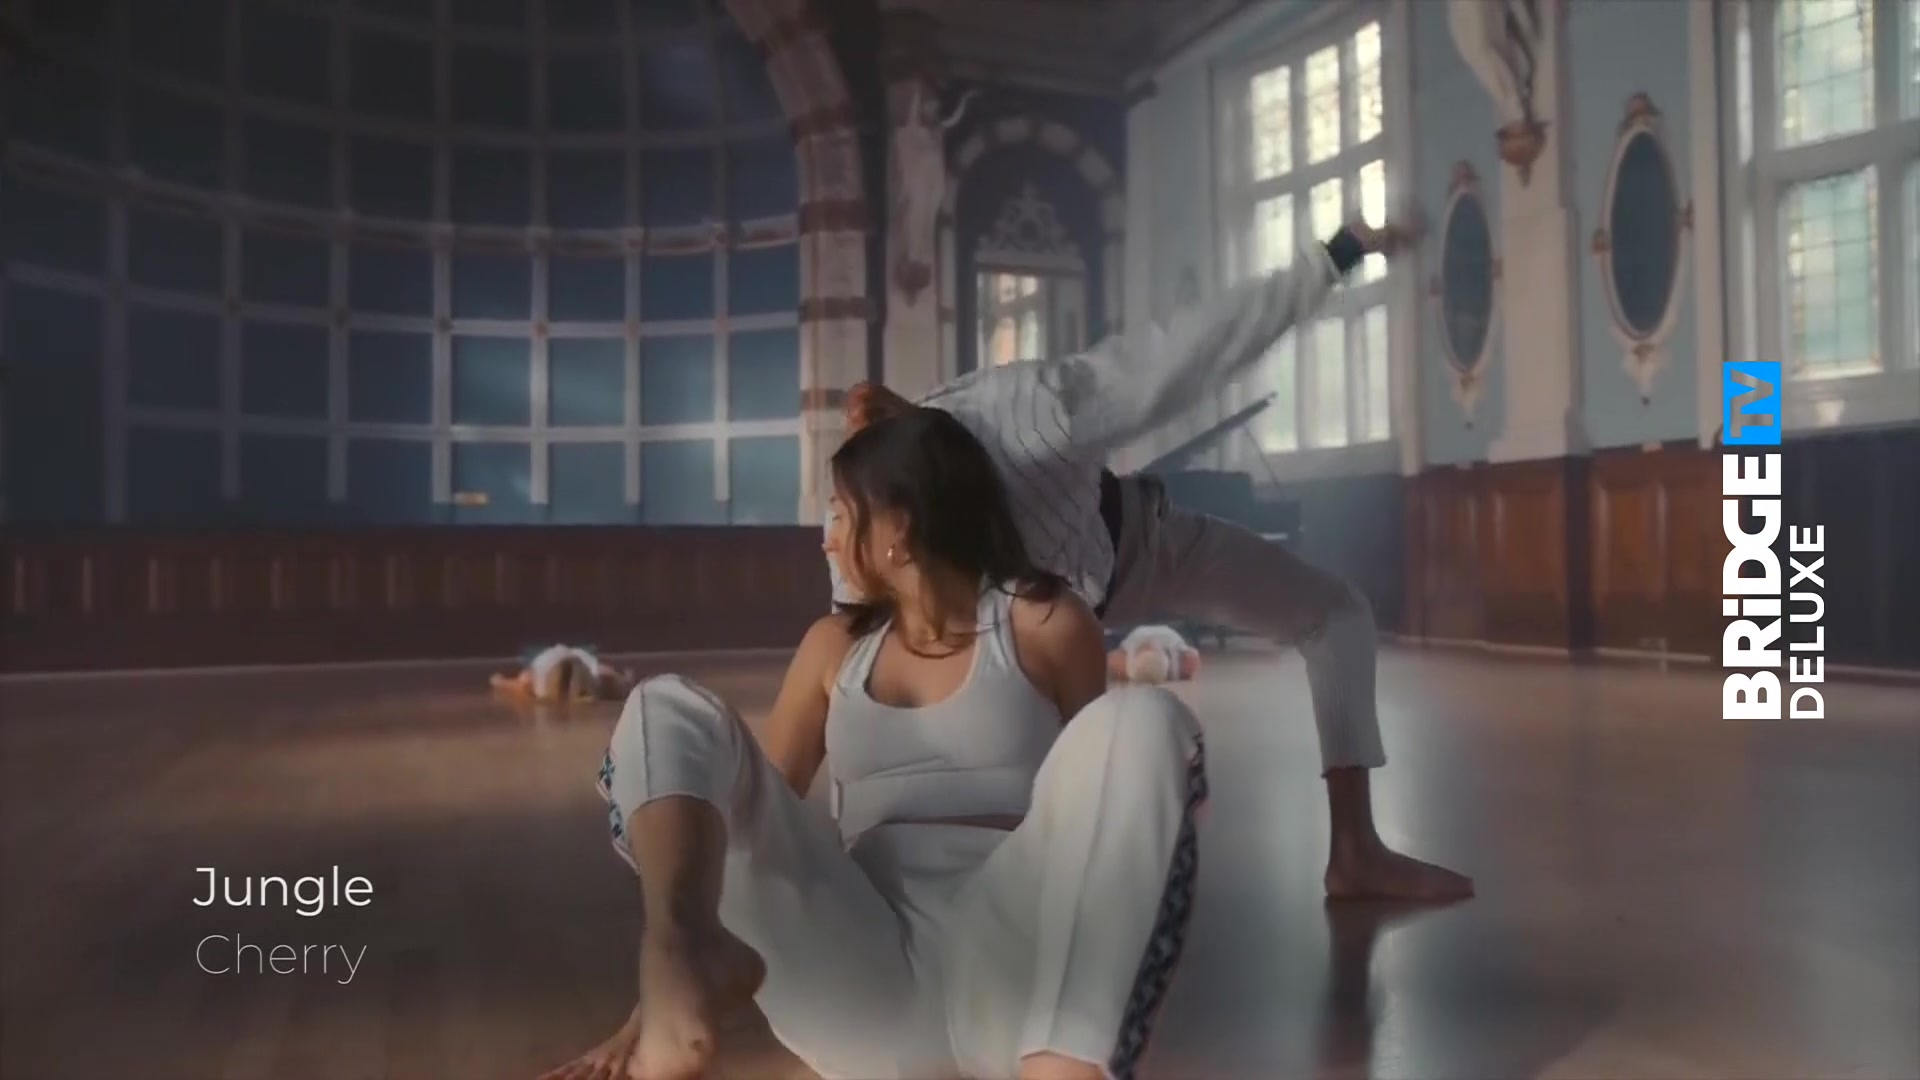Bridge_TV_Deluxe: (1716, 353, 1832, 728)
